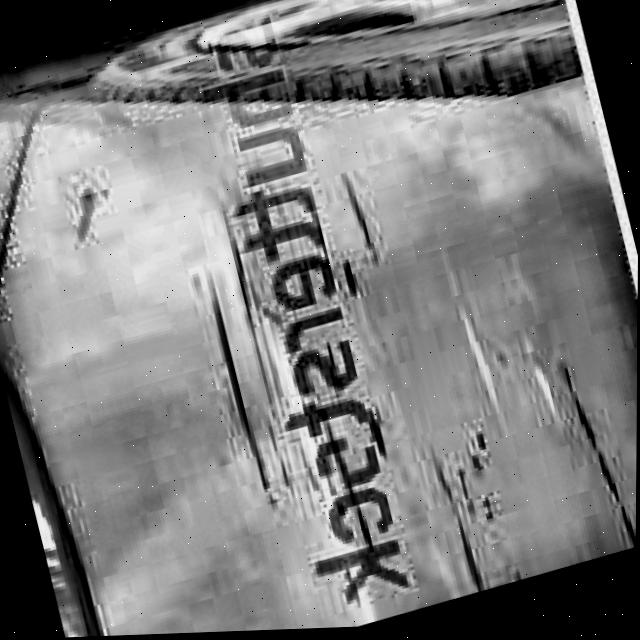bumper_scratch: (182, 240, 317, 515), (412, 408, 542, 600), (537, 349, 637, 563), (308, 156, 406, 314)
